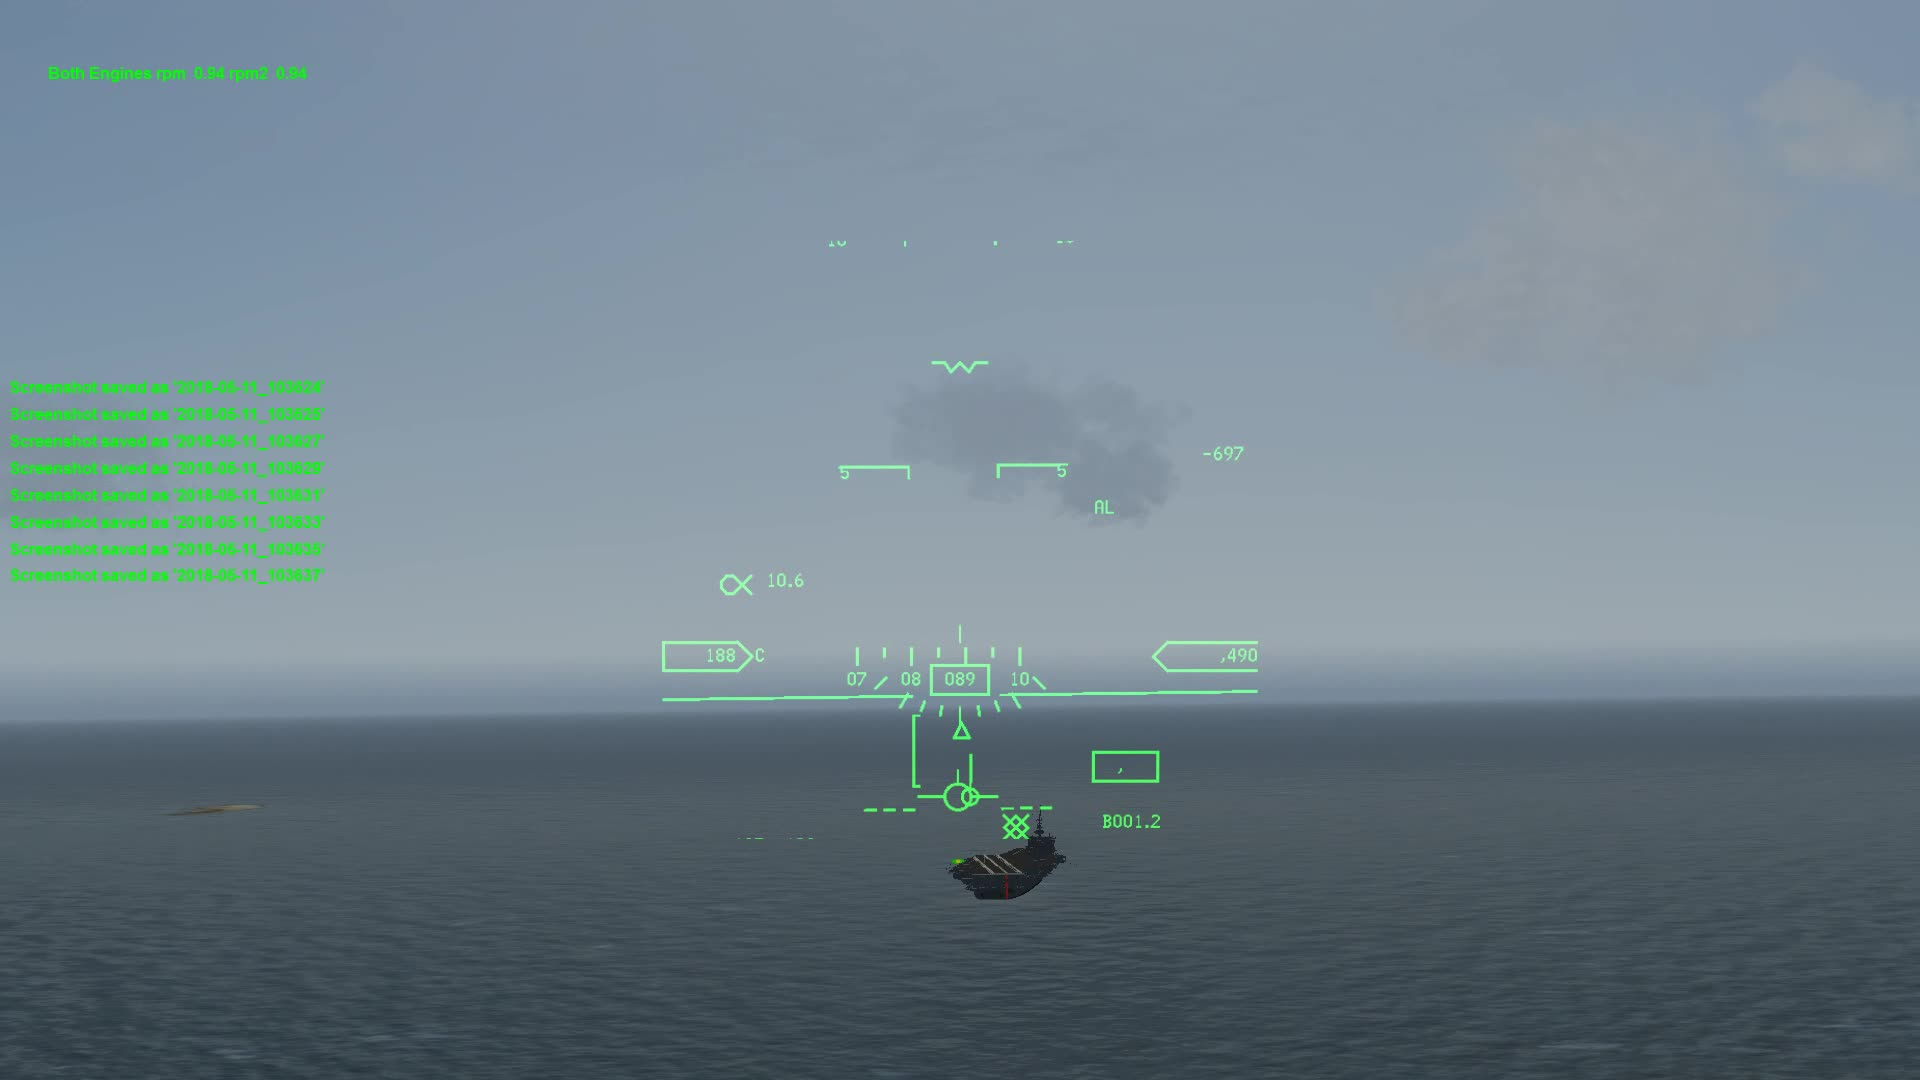speed vector: (923, 761, 1002, 814)
